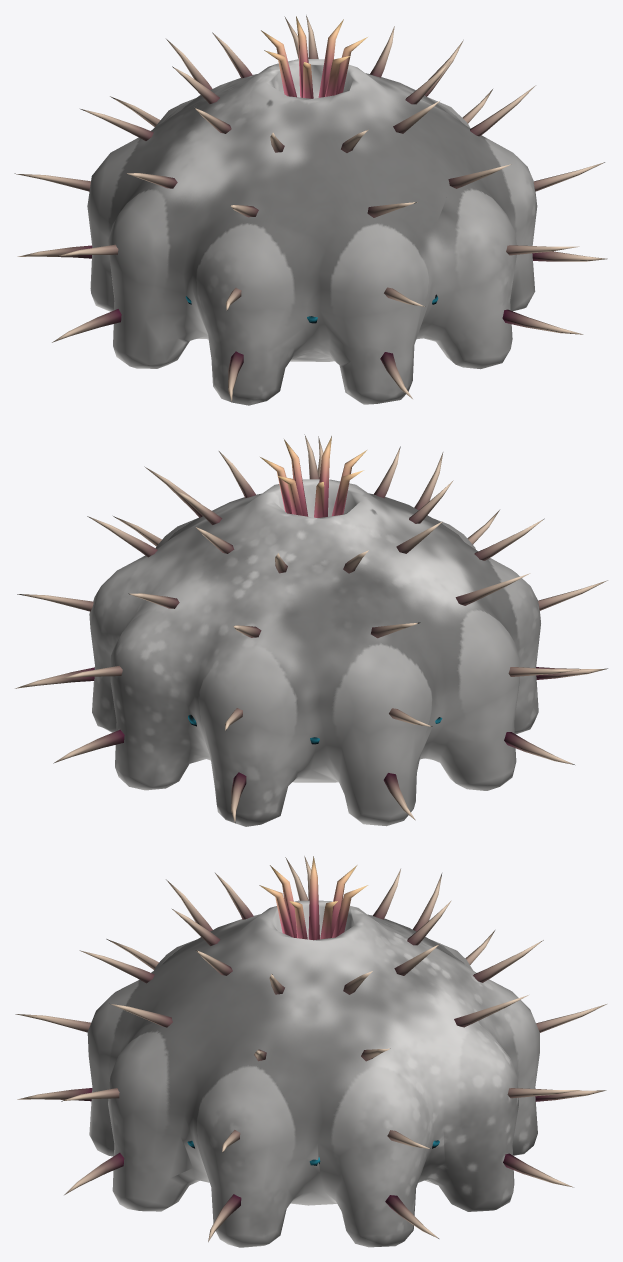
Rendered from RadialNoLegs.fbx.
The picture shows the model from 3 angles, top to bottom: view 1: azimuth 30°, elevation 25°; view 2: azimuth 150°, elevation 25°; view 3: azimuth 270°, elevation 25°; orthographic projection.
Parts seen in each view (by area): view 1: RadialNoLegs; view 2: RadialNoLegs; view 3: RadialNoLegs.
Boxes of the visible parts, bbox=[...] form: RadialNoLegs: bbox=[14, 15, 607, 405]; RadialNoLegs: bbox=[15, 434, 607, 826]; RadialNoLegs: bbox=[15, 856, 606, 1247].
Size of the model in its own units: 0.9937 by 0.5242 by 1.
Materials: 2 (2 with a texture image).
